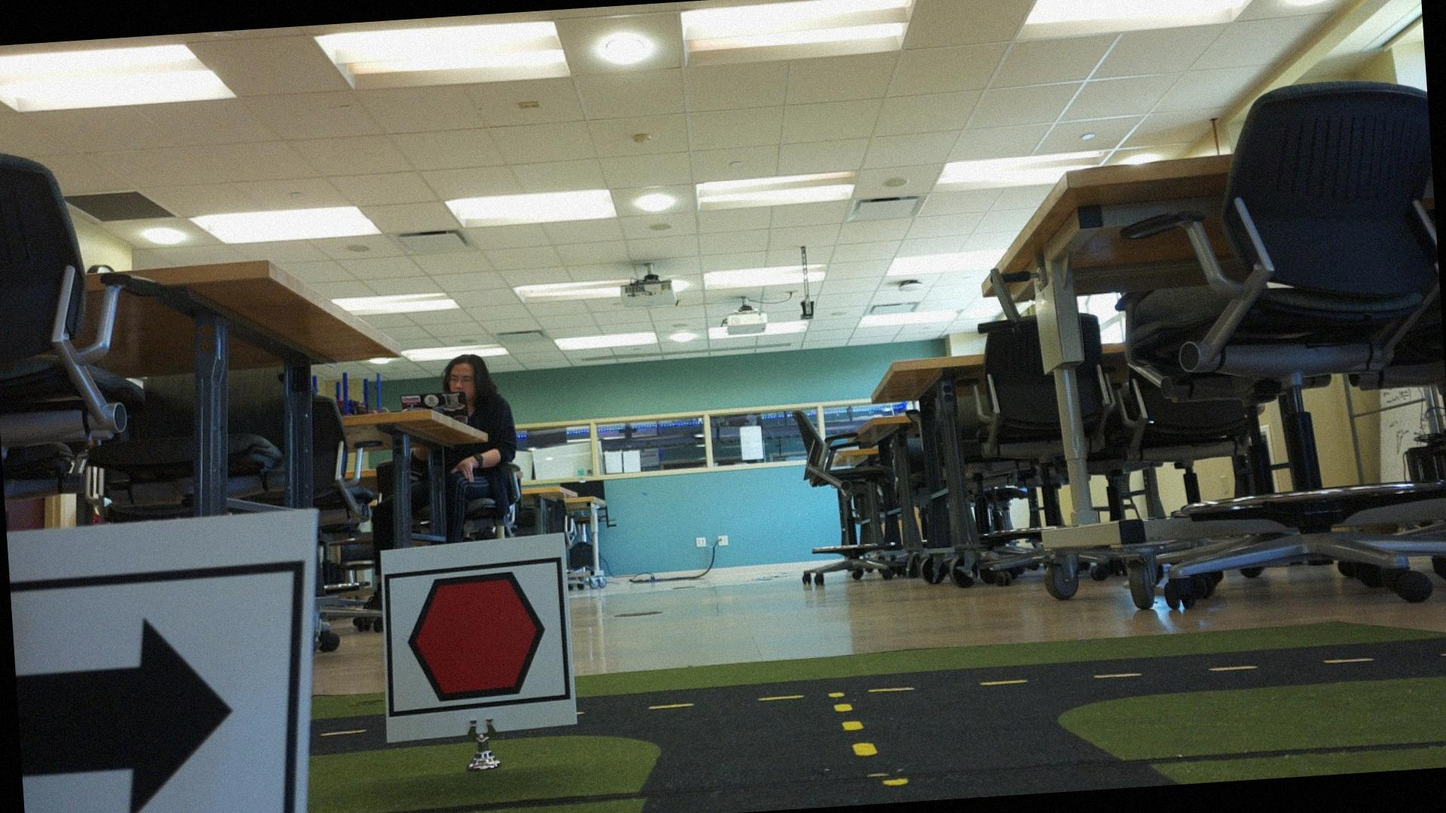stop: (384, 566, 569, 714)
turnright: (11, 574, 288, 812)
yellowline: (834, 697, 875, 760)
